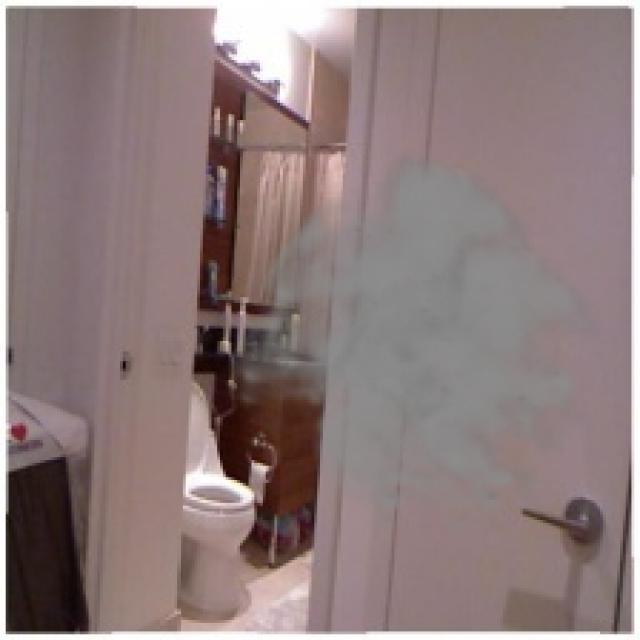Smoke: (222, 148, 614, 538)
